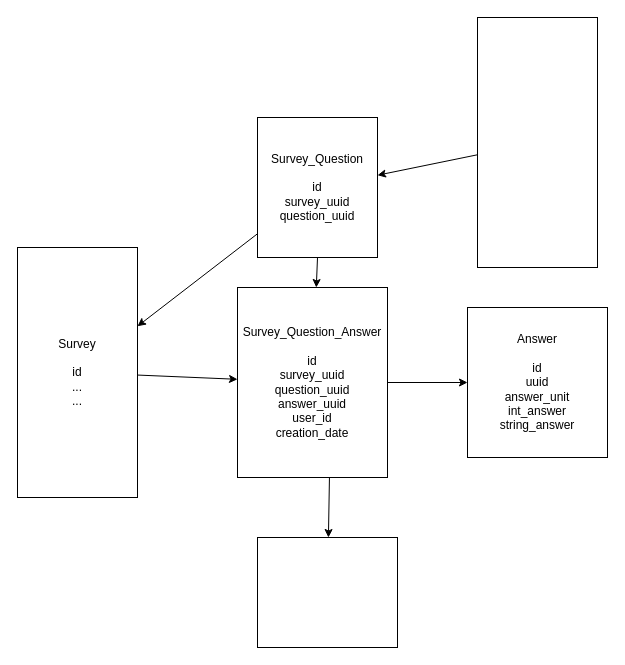
The diagram is 625 pixels wide and 665 high, and some of its shapes have lost their labels. The shapes that lost their labels are listed below. From the top down, each one's centre as x and y in pixels, then its label:
pixel 537 142: Question id uuid question focus unit back_image min max default warp_function
pixel 327 592: User id ...
